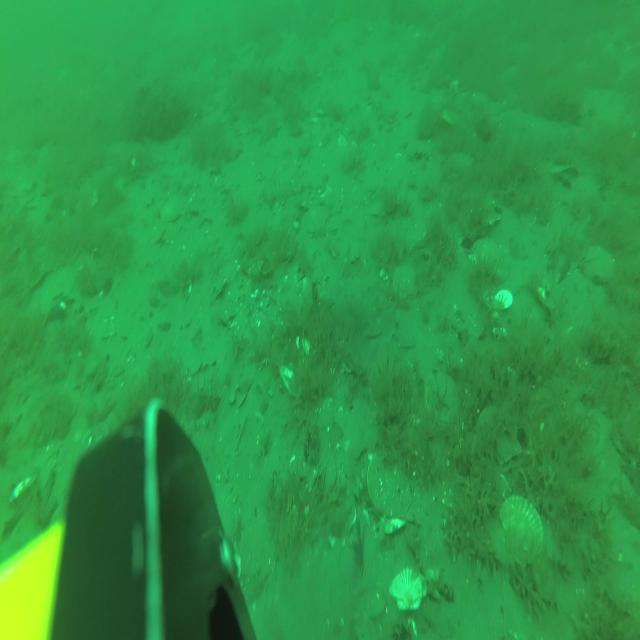scallop: (365, 442, 415, 520), (501, 490, 546, 562), (477, 400, 524, 466), (387, 565, 428, 614), (582, 238, 616, 282), (468, 234, 506, 273), (469, 190, 504, 230), (392, 260, 422, 302), (158, 191, 192, 226), (368, 186, 400, 219), (301, 200, 329, 237)
